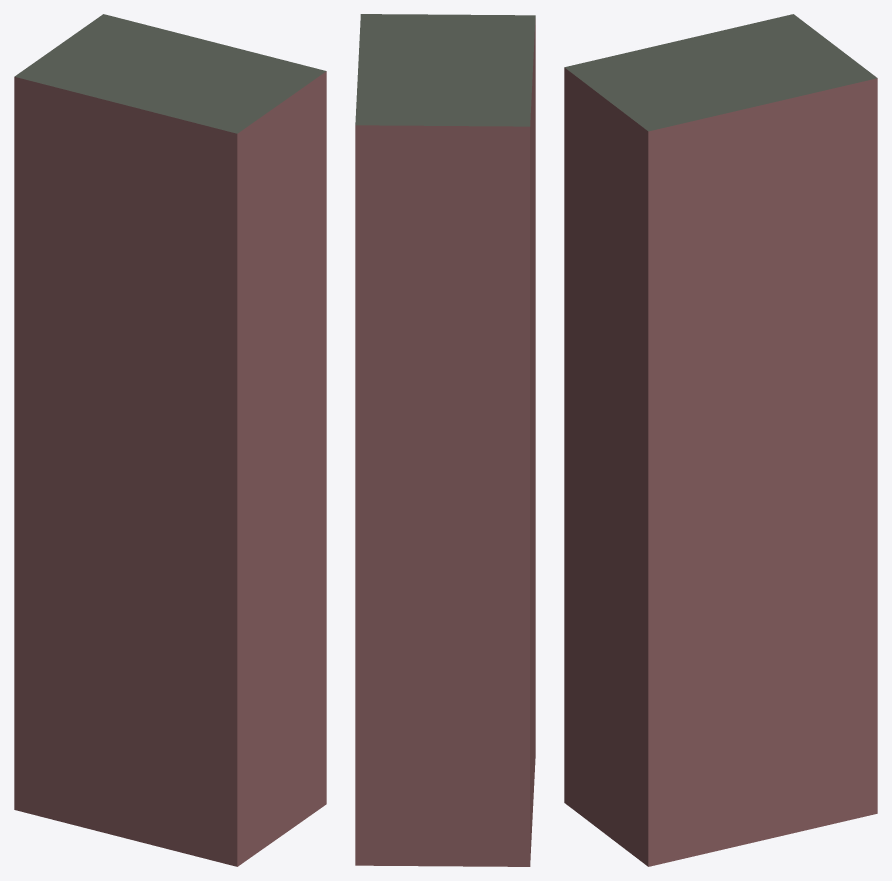
Rendered from nyc-1015238-0.glb.
3 renders of one model, left to right at view 1: azimuth 30°, elevation 25°; view 2: azimuth 150°, elevation 25°; view 3: azimuth 270°, elevation 25°, orthographic.
Parts seen in each view (by area): view 1: nyc-1015238-0; view 2: nyc-1015238-0; view 3: nyc-1015238-0.
Part boxes in pixels (left/top/right/bottom): nyc-1015238-0: left=14, top=14, right=326, bottom=866; nyc-1015238-0: left=355, top=14, right=535, bottom=866; nyc-1015238-0: left=564, top=14, right=877, bottom=866.
Bounding box in the file's own units: 28.77 × 83.97 × 32.44.
